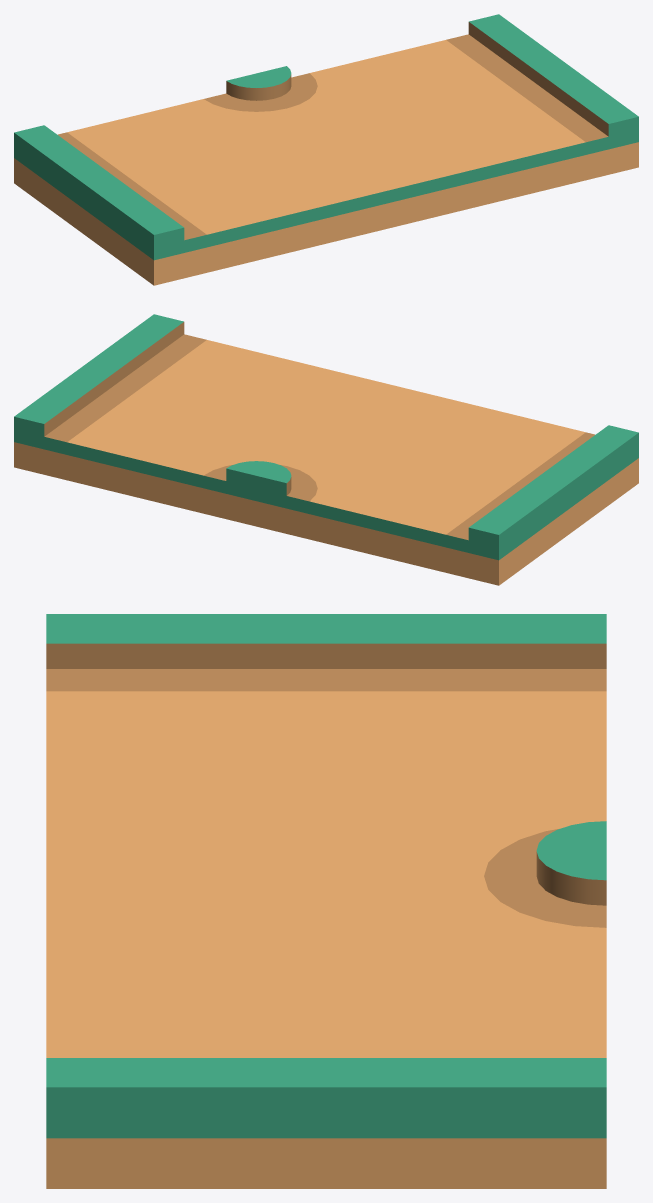
File: tile_wideSplit.dae
3 renders of one model, top to bottom at view 1: azimuth 30°, elevation 25°; view 2: azimuth 150°, elevation 25°; view 3: azimuth 270°, elevation 25°, orthographic. The views are drawn at different scales.
Visible parts, largest first — view 1: tile_wideSplit; view 2: tile_wideSplit; view 3: tile_wideSplit.
Boxes of the visible parts, bbox=[...] form: tile_wideSplit: bbox=[14, 14, 638, 285]; tile_wideSplit: bbox=[14, 314, 638, 585]; tile_wideSplit: bbox=[46, 614, 606, 1188].
Bounding box in the file's own units: 2 × 0.2 × 1.
